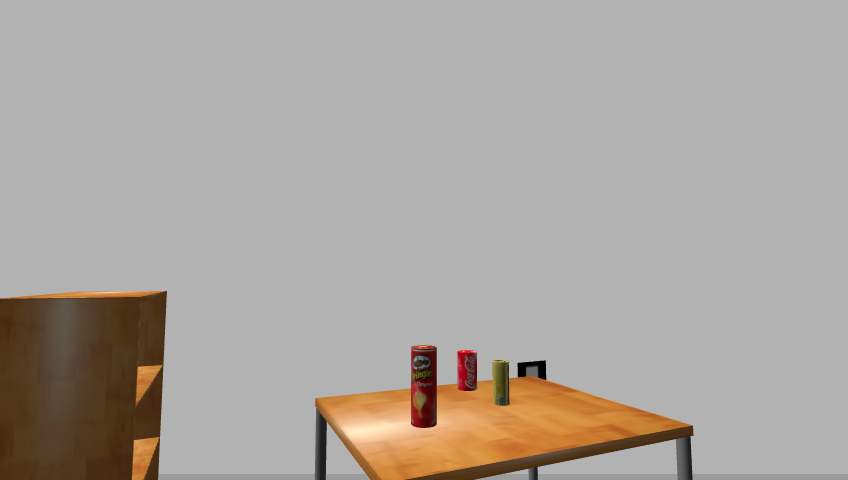aruco marker: (511, 360, 550, 384)
biscuits pack: (492, 361, 511, 407)
bookshelf: (0, 290, 173, 480)
coke can: (456, 350, 479, 392)
dinner table: (304, 375, 703, 479)
pringles can: (408, 346, 439, 430)
